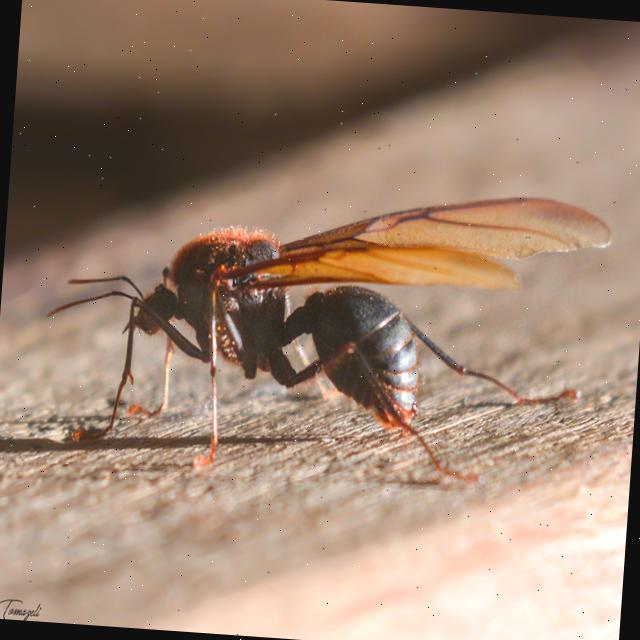Alive-Male-Alate: (37, 164, 614, 496)
